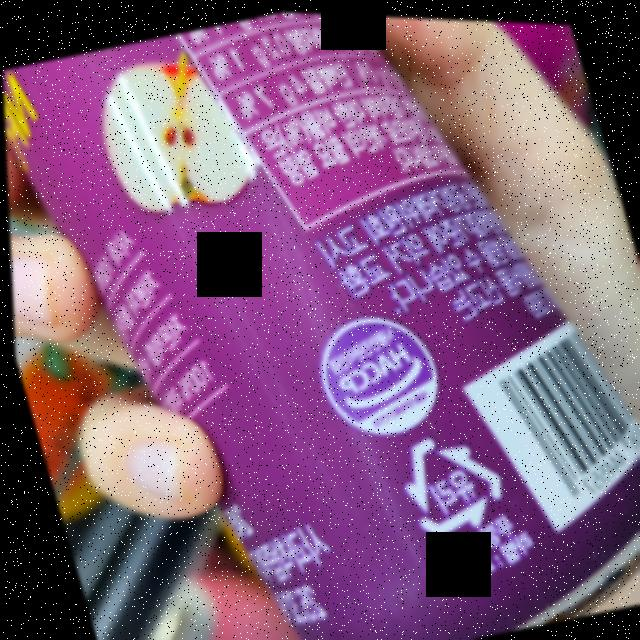Glass: (386, 410, 510, 543)
